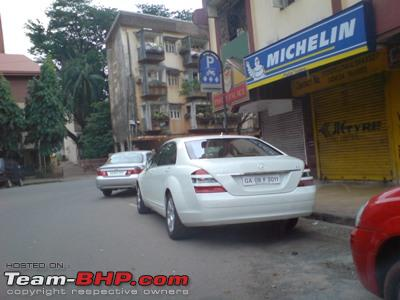car: (132, 132, 321, 240), (95, 148, 158, 198), (1, 155, 24, 189)
